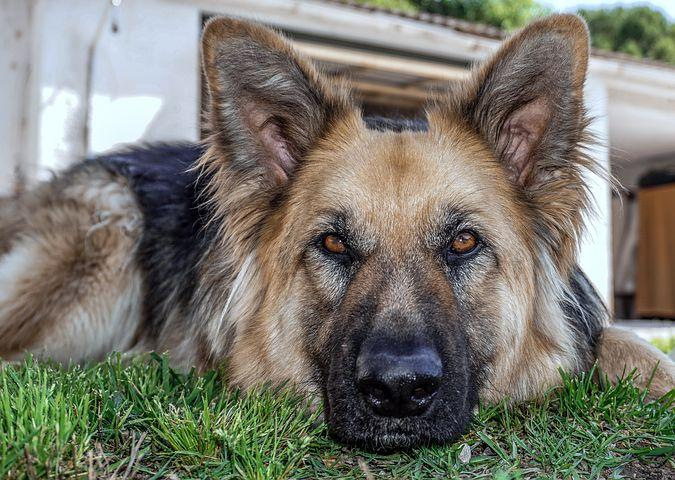Wolf: (0, 10, 675, 457)
